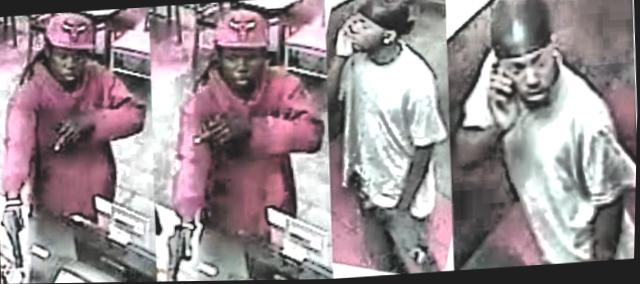pistol: (147, 214, 200, 282), (0, 193, 39, 269)
